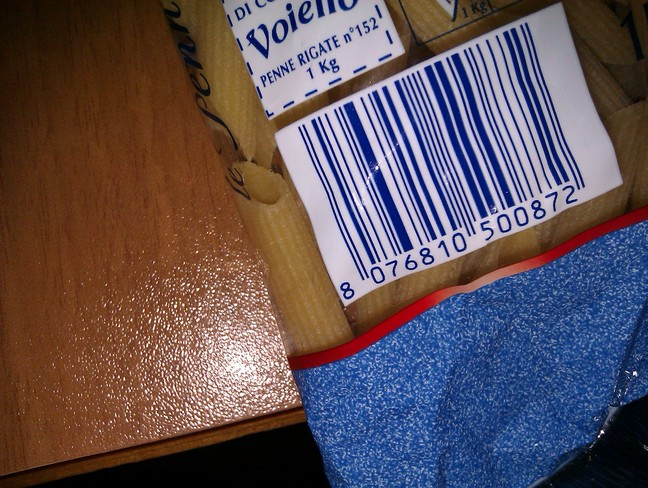barcode: (264, 15, 609, 301)
